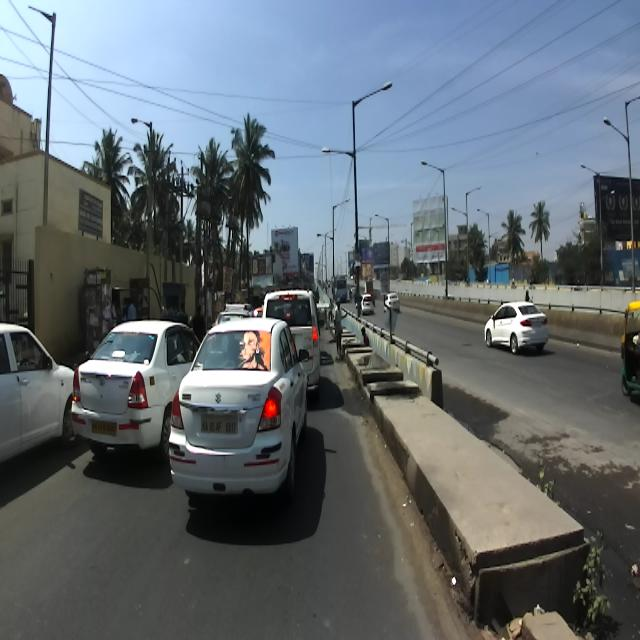car ahead at: (175, 310, 313, 505), (70, 301, 199, 461)
